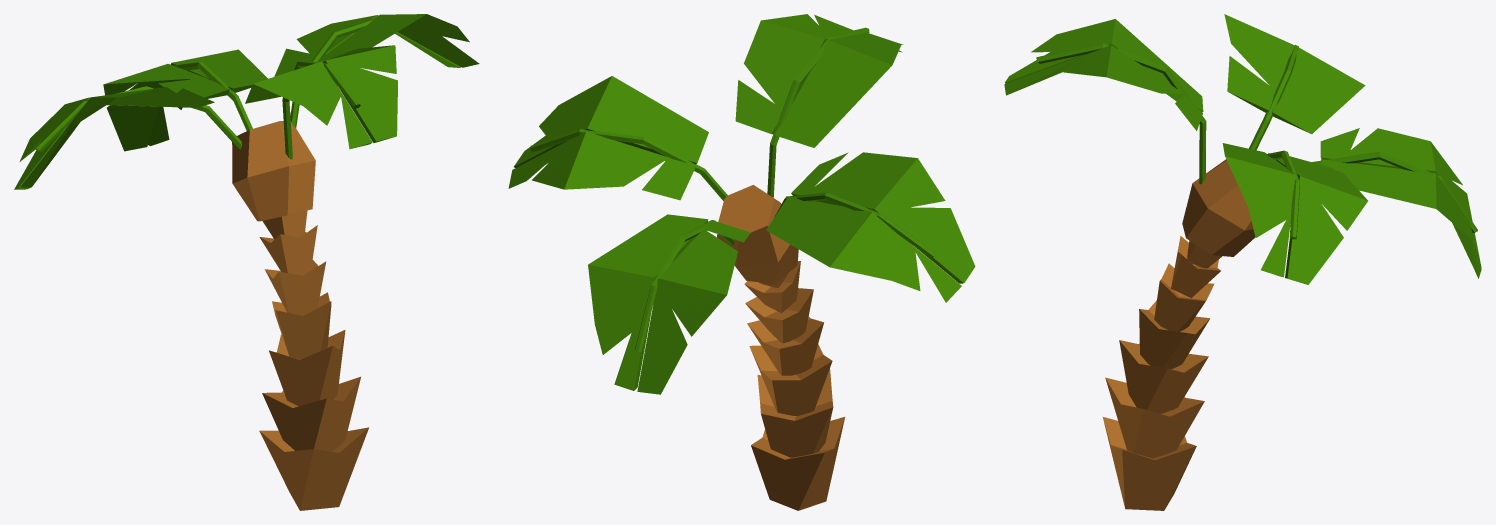
File: coqueiro.fbx
3 renders of one model, left to right at view 1: azimuth 30°, elevation 25°; view 2: azimuth 150°, elevation 25°; view 3: azimuth 270°, elevation 25°, orthographic.
Visible parts, largest first — view 1: Cube, Cylinder.011, Cylinder.004, Cylinder.008, Cylinder.009; view 2: Cube, Cylinder.009, Cylinder.004, Cylinder.008, Cylinder.011; view 3: Cube, Cylinder.008, Cylinder.009, Cylinder.004, Cylinder.011.
Part boxes in pixels (<box>): Cube: <box>232,121,368,510</box>; Cylinder.011: <box>245,45,397,159</box>; Cylinder.004: <box>103,49,267,151</box>; Cylinder.008: <box>274,14,479,127</box>; Cylinder.009: <box>14,86,241,189</box>; Cube: <box>717,185,844,510</box>; Cylinder.009: <box>766,152,975,302</box>; Cylinder.004: <box>588,214,750,394</box>; Cylinder.008: <box>508,76,727,200</box>; Cylinder.011: <box>735,14,903,197</box>; Cube: <box>1103,159,1255,510</box>; Cylinder.008: <box>1222,143,1367,284</box>; Cylinder.009: <box>1224,14,1365,150</box>; Cylinder.004: <box>1312,128,1481,278</box>; Cylinder.011: <box>1004,19,1206,184</box>.
Size of the model in its own units: 805 by 777 by 740.
